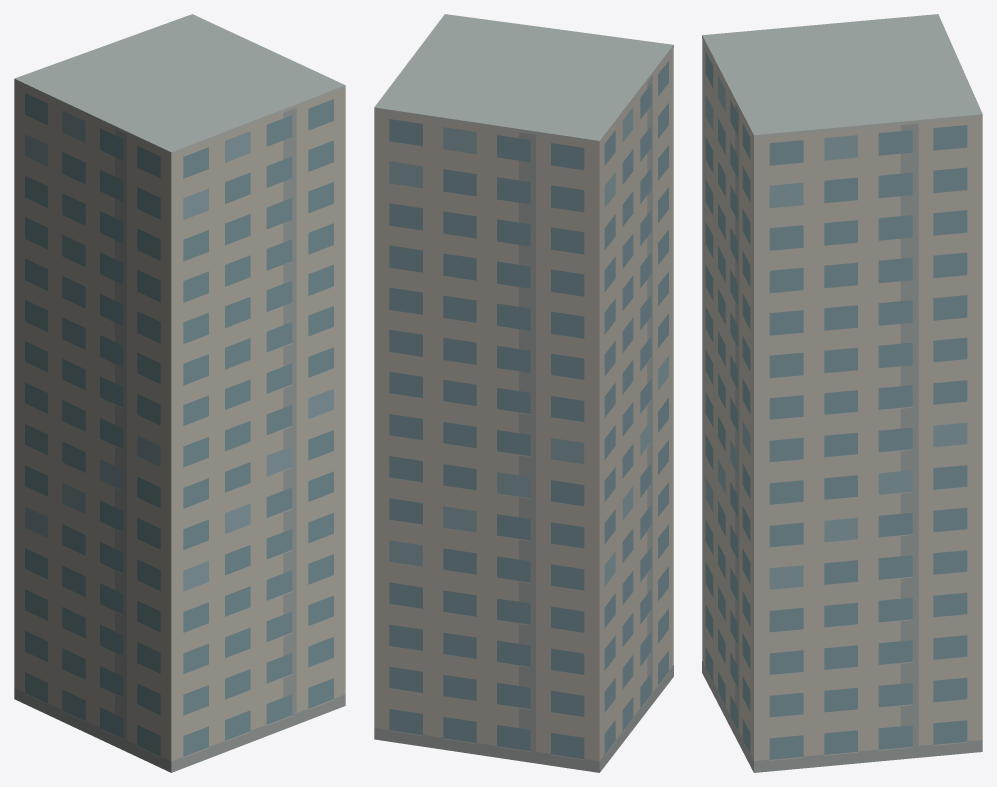
Rendered from survey-upis-33012778.glb.
3 views of the same model, side by side, from view 1: azimuth 30°, elevation 25°; view 2: azimuth 150°, elevation 25°; view 3: azimuth 270°, elevation 25° (orthographic). The views are drawn at different scales.
Parts seen in each view (by area): view 1: survey-upis-33012778.tmp; view 2: survey-upis-33012778.tmp; view 3: survey-upis-33012778.tmp.
Part boxes in pixels (bbox=[...]): survey-upis-33012778.tmp: bbox=[14, 14, 345, 772]; survey-upis-33012778.tmp: bbox=[374, 14, 673, 772]; survey-upis-33012778.tmp: bbox=[702, 14, 982, 772].
Size of the model in its own units: 18.66 by 45.75 by 18.26.
